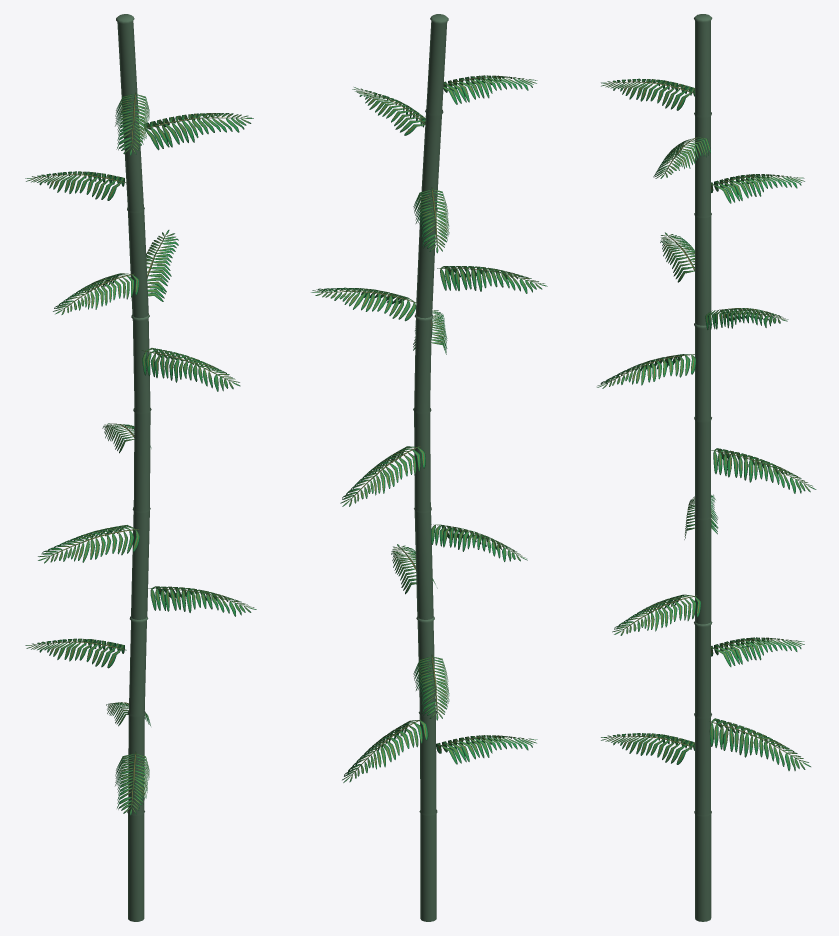
File: BambooStalk_1.obj
The picture shows the model from 3 angles, left to right: view 1: azimuth 30°, elevation 25°; view 2: azimuth 150°, elevation 25°; view 3: azimuth 270°, elevation 25°; orthographic projection.
Visible parts, largest first — view 1: BambooSegment3, BambooLeafPlane_Short11, BambooLeafPlane_Short10, BambooLeafPlane_Short9, BambooLeafPlane_Short17, BambooLeafPlane_Short16, BambooLeafPlane_Short15, BambooLeafPlane_Short13, BambooLeafPlane_Short14, BambooLeafPlane_Short8, BambooLeafPlane_Short19, BambooLeafPlane_Short12; view 2: BambooSegment3, BambooLeafPlane_Short12, BambooLeafPlane_Short16, BambooLeafPlane_Short18, BambooLeafPlane_Short19, BambooLeafPlane_Short14, BambooLeafPlane_Short13, BambooLeafPlane_Short8, BambooLeafPlane_Short9, BambooLeafPlane_Short15, BambooLeafPlane_Short11, BambooLeafPlane_Short17; view 3: BambooSegment3, BambooLeafPlane_Short18, BambooLeafPlane_Short12, BambooLeafPlane_Short17, BambooLeafPlane_Short15, BambooLeafPlane_Short8, BambooLeafPlane_Short10, BambooLeafPlane_Short13, BambooLeafPlane_Short14, BambooLeafPlane_Short19, BambooLeafPlane_Short11, BambooLeafPlane_Short16.
Boxes of the visible parts, bbox=[...] form: BambooSegment3: bbox=[116, 14, 151, 921]; BambooLeafPlane_Short11: bbox=[141, 113, 253, 150]; BambooLeafPlane_Short10: bbox=[141, 348, 240, 391]; BambooLeafPlane_Short9: bbox=[38, 525, 139, 563]; BambooLeafPlane_Short17: bbox=[148, 586, 256, 616]; BambooLeafPlane_Short16: bbox=[53, 273, 138, 314]; BambooLeafPlane_Short15: bbox=[115, 92, 149, 155]; BambooLeafPlane_Short13: bbox=[25, 171, 125, 200]; BambooLeafPlane_Short14: bbox=[25, 638, 126, 668]; BambooLeafPlane_Short8: bbox=[115, 751, 149, 815]; BambooLeafPlane_Short19: bbox=[146, 230, 178, 301]; BambooLeafPlane_Short12: bbox=[102, 423, 151, 453]; BambooSegment3: bbox=[413, 14, 448, 921]; BambooLeafPlane_Short12: bbox=[340, 445, 425, 506]; BambooLeafPlane_Short16: bbox=[437, 266, 547, 293]; BambooLeafPlane_Short18: bbox=[342, 719, 428, 782]; BambooLeafPlane_Short19: bbox=[311, 287, 417, 321]; BambooLeafPlane_Short14: bbox=[413, 654, 449, 720]; BambooLeafPlane_Short13: bbox=[413, 187, 449, 253]; BambooLeafPlane_Short8: bbox=[436, 735, 537, 764]; BambooLeafPlane_Short9: bbox=[431, 524, 527, 561]; BambooLeafPlane_Short15: bbox=[443, 75, 537, 104]; BambooLeafPlane_Short11: bbox=[352, 87, 425, 135]; BambooLeafPlane_Short17: bbox=[391, 544, 437, 594]; BambooSegment3: bbox=[694, 14, 712, 921]; BambooLeafPlane_Short18: bbox=[709, 718, 810, 770]; BambooLeafPlane_Short12: bbox=[711, 448, 816, 493]; BambooLeafPlane_Short17: bbox=[612, 594, 700, 635]; BambooLeafPlane_Short15: bbox=[601, 78, 695, 110]; BambooLeafPlane_Short8: bbox=[601, 733, 694, 764]; BambooLeafPlane_Short10: bbox=[597, 354, 695, 388]; BambooLeafPlane_Short13: bbox=[711, 174, 804, 203]; BambooLeafPlane_Short14: bbox=[711, 637, 804, 666]; BambooLeafPlane_Short19: bbox=[705, 308, 788, 329]; BambooLeafPlane_Short11: bbox=[653, 136, 710, 178]; BambooLeafPlane_Short16: bbox=[660, 232, 694, 282].
Size of the model in its own units: 6.36 by 25.4 by 6.15.
2 materials, 1 textured.
